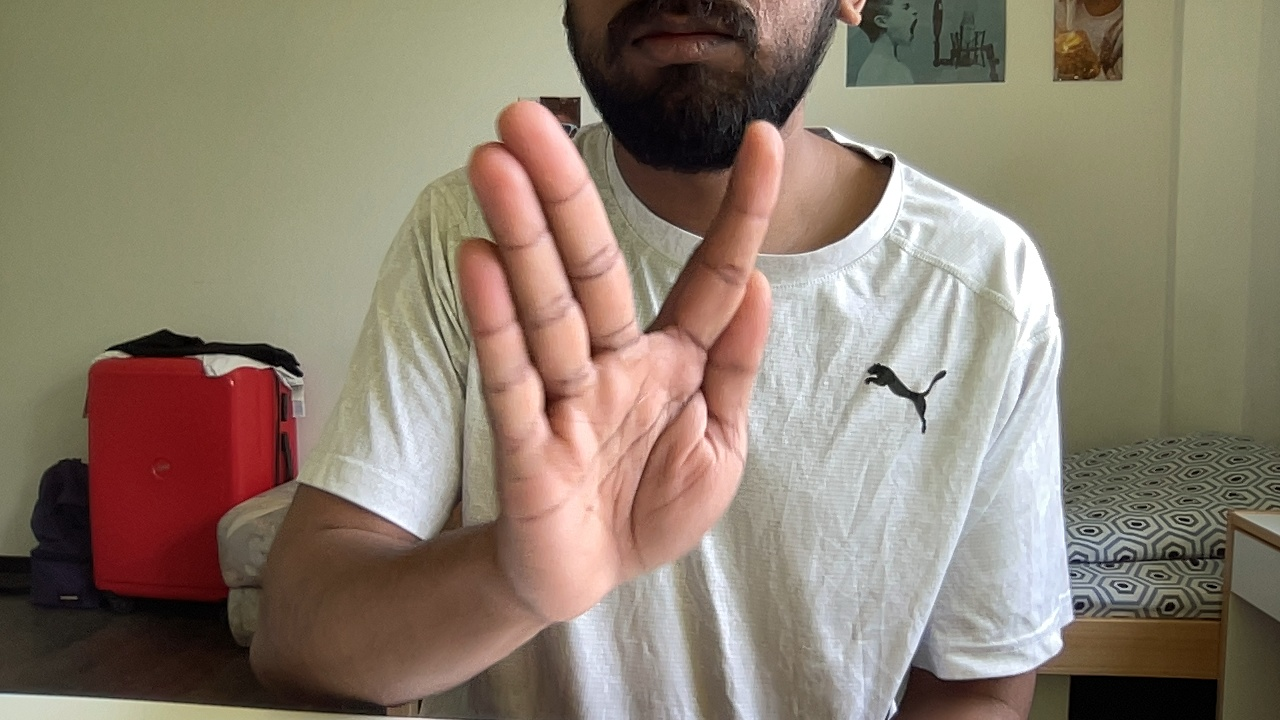LiveLong: (454, 97, 784, 628)
